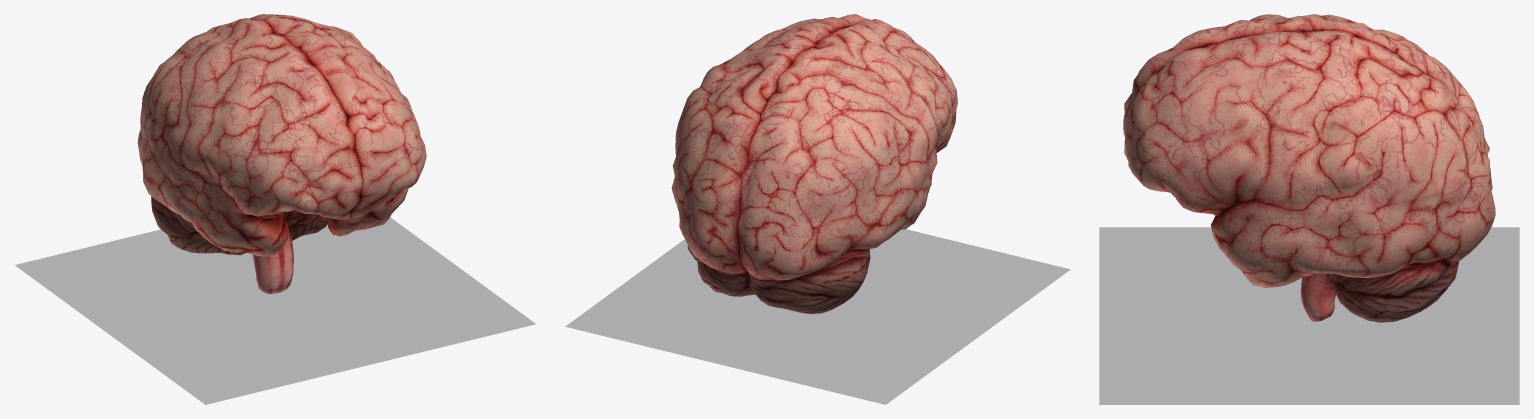
Rendered from modelo.glb.
The picture shows the model from 3 angles, left to right: view 1: azimuth 30°, elevation 25°; view 2: azimuth 150°, elevation 25°; view 3: azimuth 270°, elevation 25°; orthographic projection. The views are drawn at different scales.
Parts seen in each view (by area): view 1: brain.1_1, Plano; view 2: brain.1_1, Plano; view 3: brain.1_1, Plano.
Boxes of the visible parts, x1,y1,x2,y2 form: brain.1_1: (137, 14, 426, 293); Plano: (15, 217, 534, 404); brain.1_1: (671, 14, 957, 314); Plano: (565, 229, 1069, 404); brain.1_1: (1123, 14, 1495, 322); Plano: (1099, 227, 1519, 404).
Size of the model in its own units: 0.7318 by 0.561 by 0.7318.
Materials: 2 (1 with a texture image).
